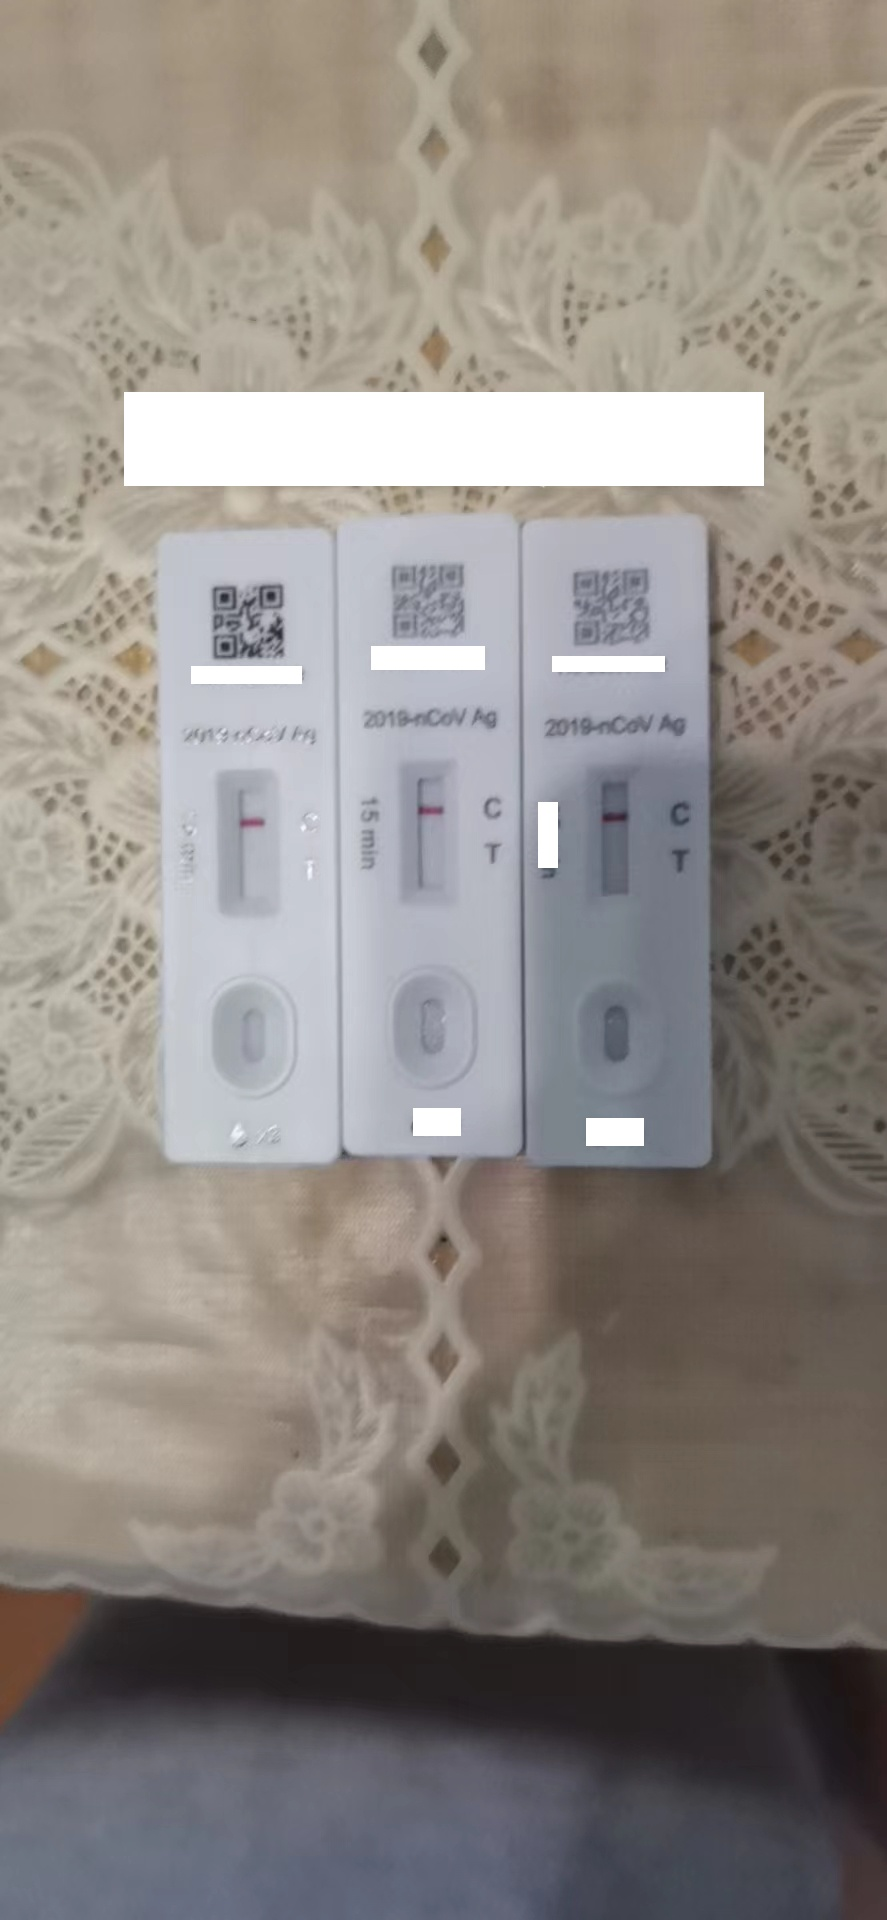negative: (216, 771, 281, 920), (402, 760, 456, 906), (588, 767, 638, 902)
